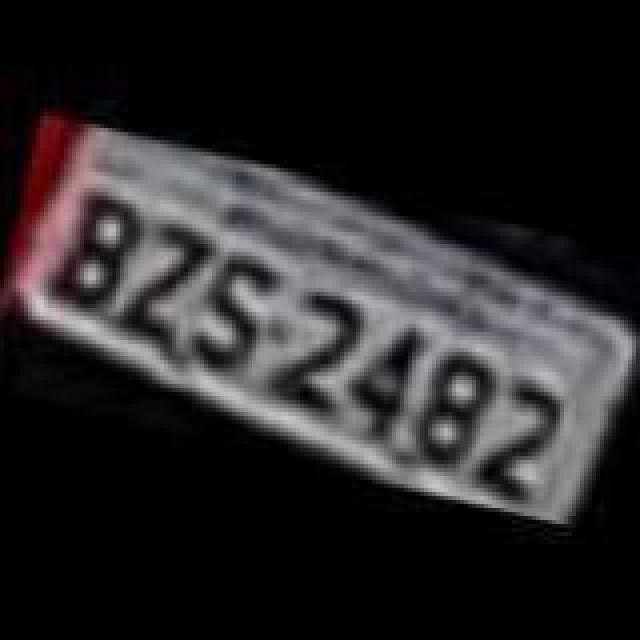2: (256, 282, 368, 418), (472, 376, 572, 504)
4: (336, 312, 436, 448)
8: (404, 342, 504, 474)
B: (38, 180, 150, 316)
S: (176, 242, 288, 382)
Z: (112, 212, 224, 352)
